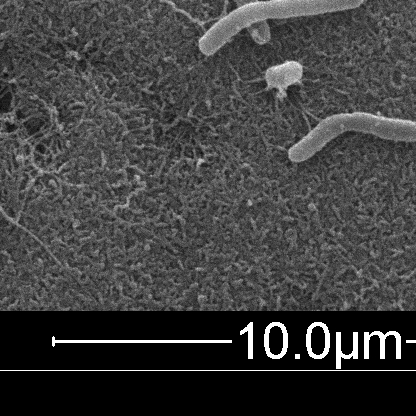cell2cell: (220, 0, 230, 25)
cell2surface: (0, 108, 52, 250), (161, 0, 226, 21)
filament: (199, 0, 365, 56), (288, 115, 416, 163), (215, 0, 273, 43), (238, 0, 287, 23)
regular: (264, 62, 303, 90)
